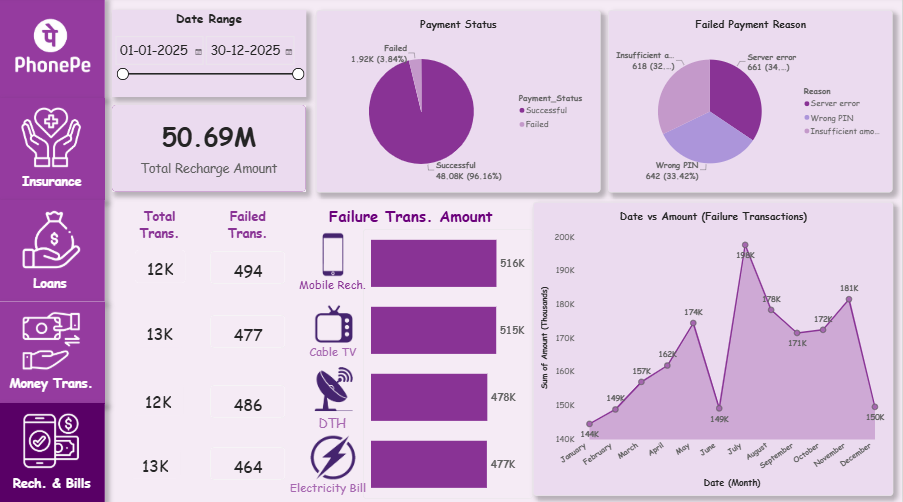

This screenshot's page, from the dashboard's own definition file:
{"tool":"powerbi","page":{"name":"Recharge & Bills","canvas":[1920,1080],"ordinal":4},"visuals":[{"type":"shape","box":[0,0,227.5,216],"z":0,"group":"g1"},{"type":"group","id":"g1","title":"Group 1","box":[0,0,227.5,216],"z":0},{"type":"cardVisual","fields":{"Data":["Count(Recharge_Bills.Transaction_ID)"]},"box":[291.6,537.9,107.5,70],"z":0,"group":"g7"},{"type":"cardVisual","fields":{"Data":["Count(Recharge_Bills.Transaction_ID)"]},"box":[450,541,160,70.1],"z":0,"group":"g8"},{"type":"shape","box":[0,215,227.5,217.5],"z":1000,"group":"g2"},{"type":"group","id":"g2","title":"Group 2","box":[0,215,227.5,217.5],"z":1000},{"type":"cardVisual","fields":{"Data":["Count(Recharge_Bills.Transaction_ID)"]},"box":[294.1,675.4,100,70],"z":1000,"group":"g7"},{"type":"cardVisual","fields":{"Data":["Count(Recharge_Bills.Transaction_ID)"]},"box":[450,677,160,70.1],"z":1000,"group":"g8"},{"type":"shape","box":[0,432,227.5,216],"z":2000,"group":"g3"},{"type":"group","id":"g3","title":"Group 3","box":[0,432,227.5,216],"z":2000},{"type":"cardVisual","fields":{"Data":["Count(Recharge_Bills.Transaction_ID)"]},"box":[286.6,820.4,107.5,70],"z":2000,"group":"g7"},{"type":"cardVisual","fields":{"Data":["Count(Recharge_Bills.Transaction_ID)"]},"box":[450,825.7,160,70.1],"z":2000,"group":"g8"},{"type":"group","id":"g4","title":"Group 4","box":[0,647.5,227.5,217.5],"z":3000},{"type":"shape","box":[0,647.5,227.5,217.5],"z":3000,"group":"g4"},{"type":"cardVisual","fields":{"Data":["Count(Recharge_Bills.Transaction_ID)"]},"box":[450,957.4,160,70.1],"z":3000,"group":"g8"},{"type":"cardVisual","fields":{"Data":["Count(Recharge_Bills.Transaction_ID)"]},"box":[281.6,957.9,107.5,65],"z":3000,"group":"g7"},{"type":"textbox","box":[257.2,446.5,172.2,89.3],"z":4000,"group":"g7"},{"type":"textbox","box":[450,447.5,160,89.2],"z":4000,"group":"g8"},{"type":"shape","box":[0,864,227.5,216],"z":4000,"group":"g5"},{"type":"group","id":"g5","title":"Group 5","box":[0,864,227.5,216],"z":4000},{"type":"image","box":[22.5,27.5,185,160],"z":5000,"group":"g1"},{"type":"actionButton","box":[0,222.5,227.5,215],"z":5000},{"type":"image","box":[32.5,222.5,162.5,150],"z":6000,"group":"g2"},{"type":"actionButton","box":[0,448.6,227.5,199.8],"z":6000},{"type":"image","box":[37.5,447.5,155,135],"z":7000,"group":"g3"},{"type":"actionButton","box":[0,650,227.5,215],"z":7000},{"type":"actionButton","box":[0,0,227.5,215],"z":8000},{"type":"image","box":[35,662.5,157.5,135],"z":8000,"group":"g4"},{"type":"slicer","title":"Date Range","fields":{"Values":["All_Transactions.Date"]},"box":[242.5,27.5,412.5,185],"z":9000},{"type":"image","box":[32.5,877.5,162.5,135],"z":9000,"group":"g5"},{"type":"cardVisual","fields":{"Data":["Sum(Recharge_Bills.Amount)"]},"box":[242.5,230,412.4,185],"z":10000},{"type":"textbox","box":[37.5,372.5,152.5,47.5],"z":10000,"group":"g2"},{"type":"pieChart","title":"Payment Status","fields":{"Category":["Recharge_Bills.Payment_Status"],"Y":["CountNonNull(Recharge_Bills.Recharge_Type)"]},"box":[675,27.5,605,387.5],"z":11000},{"type":"textbox","box":[35,590,152.5,47.5],"z":11000,"group":"g3"},{"type":"pieChart","title":"Failed Payment Reason","fields":{"Category":["Recharge_Bills.Reason"],"Y":["CountNonNull(Recharge_Bills.Amount)"]},"box":[1297.5,27.5,605,387.5],"z":12000},{"type":"textbox","box":[5,800,217.5,47.5],"z":12000,"group":"g4"},{"type":"lineChart","title":"Date vs Amount (Failure Transactions)","fields":{"Category":["Recharge_Bills.Date.Variation.Date Hierarchy.Month"],"Y":["Sum(Recharge_Bills.Amount)"]},"box":[1136.4,435.9,766,624.9],"z":13000},{"type":"textbox","box":[15,1015,197.5,45],"z":13000,"group":"g5"},{"type":"group","id":"g6","title":"Group 6","box":[617.3,443.5,519.1,624.9],"z":14000},{"type":"textbox","box":[695.4,443.5,365,45],"z":14000,"group":"g6"},{"type":"group","id":"g7","title":"Group 7","box":[257.2,446.5,172.2,576.4],"z":15000},{"type":"clusteredBarChart","title":"Date vs Amount (Failure Transactions)","fields":{"Category":["Recharge_Bills.Recharge_Type"],"Y":["Sum(Recharge_Bills.Amount)"]},"box":[777.1,493.1,361.4,574],"z":15000,"group":"g6"},{"type":"group","id":"g8","title":"Group 8","box":[450,447.5,160,580],"z":16000},{"type":"image","box":[634.6,497.4,161.6,99.9],"z":16000,"group":"g6"},{"type":"image","box":[634.6,644.1,161.6,99.9],"z":17000,"group":"g6"},{"type":"image","box":[641,780.2,144.6,99.9],"z":18000,"group":"g6"},{"type":"image","box":[645.3,929,136.1,99.9],"z":19000,"group":"g6"},{"type":"textbox","box":[629.2,594.4,163.7,42.5],"z":20000,"group":"g6"},{"type":"textbox","box":[639.8,736.9,144.6,46.8],"z":21000,"group":"g6"},{"type":"textbox","box":[669.1,885.7,85,44.6],"z":22000,"group":"g6"},{"type":"textbox","box":[617.3,1026,170.1,38.3],"z":23000,"group":"g6"}]}

Visuals, with their boxes in screenshot pixels (x1, y1, x2, y2), scaled from the page's 1920x1080 canvas onto the 903x502 screenshot:
shape: box=[0, 0, 107, 100]
"Group 1" group: box=[0, 0, 107, 100]
cardVisual - Count(Recharge_Bills.Transaction_ID): box=[137, 250, 188, 283]
cardVisual - Count(Recharge_Bills.Transaction_ID): box=[212, 251, 287, 284]
shape: box=[0, 100, 107, 201]
"Group 2" group: box=[0, 100, 107, 201]
cardVisual - Count(Recharge_Bills.Transaction_ID): box=[138, 314, 185, 346]
cardVisual - Count(Recharge_Bills.Transaction_ID): box=[212, 315, 287, 347]
shape: box=[0, 201, 107, 301]
"Group 3" group: box=[0, 201, 107, 301]
cardVisual - Count(Recharge_Bills.Transaction_ID): box=[135, 381, 185, 414]
cardVisual - Count(Recharge_Bills.Transaction_ID): box=[212, 384, 287, 416]
"Group 4" group: box=[0, 301, 107, 402]
shape: box=[0, 301, 107, 402]
cardVisual - Count(Recharge_Bills.Transaction_ID): box=[212, 445, 287, 478]
cardVisual - Count(Recharge_Bills.Transaction_ID): box=[132, 445, 183, 475]
textbox: box=[121, 208, 202, 249]
textbox: box=[212, 208, 287, 249]
shape: box=[0, 402, 107, 501]
"Group 5" group: box=[0, 402, 107, 501]
image: box=[11, 13, 98, 87]
actionButton: box=[0, 103, 107, 203]
image: box=[15, 103, 92, 173]
actionButton: box=[0, 209, 107, 301]
image: box=[18, 208, 91, 271]
actionButton: box=[0, 302, 107, 402]
actionButton: box=[0, 0, 107, 100]
image: box=[16, 308, 91, 371]
"Date Range" slicer: box=[114, 13, 308, 99]
image: box=[15, 408, 92, 471]
cardVisual - Sum(Recharge_Bills.Amount): box=[114, 107, 308, 193]
textbox: box=[18, 173, 89, 195]
"Payment Status" pieChart: box=[317, 13, 602, 193]
textbox: box=[16, 274, 88, 296]
"Failed Payment Reason" pieChart: box=[610, 13, 895, 193]
textbox: box=[2, 372, 105, 394]
"Date vs Amount (Failure Transactions)" lineChart: box=[534, 203, 895, 493]
textbox: box=[7, 472, 100, 493]
"Group 6" group: box=[290, 206, 534, 497]
textbox: box=[327, 206, 499, 227]
"Group 7" group: box=[121, 208, 202, 475]
"Date vs Amount (Failure Transactions)" clusteredBarChart: box=[365, 229, 535, 496]
"Group 8" group: box=[212, 208, 287, 478]
image: box=[298, 231, 374, 278]
image: box=[298, 299, 374, 346]
image: box=[301, 363, 369, 409]
image: box=[303, 432, 368, 478]
textbox: box=[296, 276, 373, 296]
textbox: box=[301, 343, 369, 364]
textbox: box=[315, 412, 355, 432]
textbox: box=[290, 477, 370, 495]
